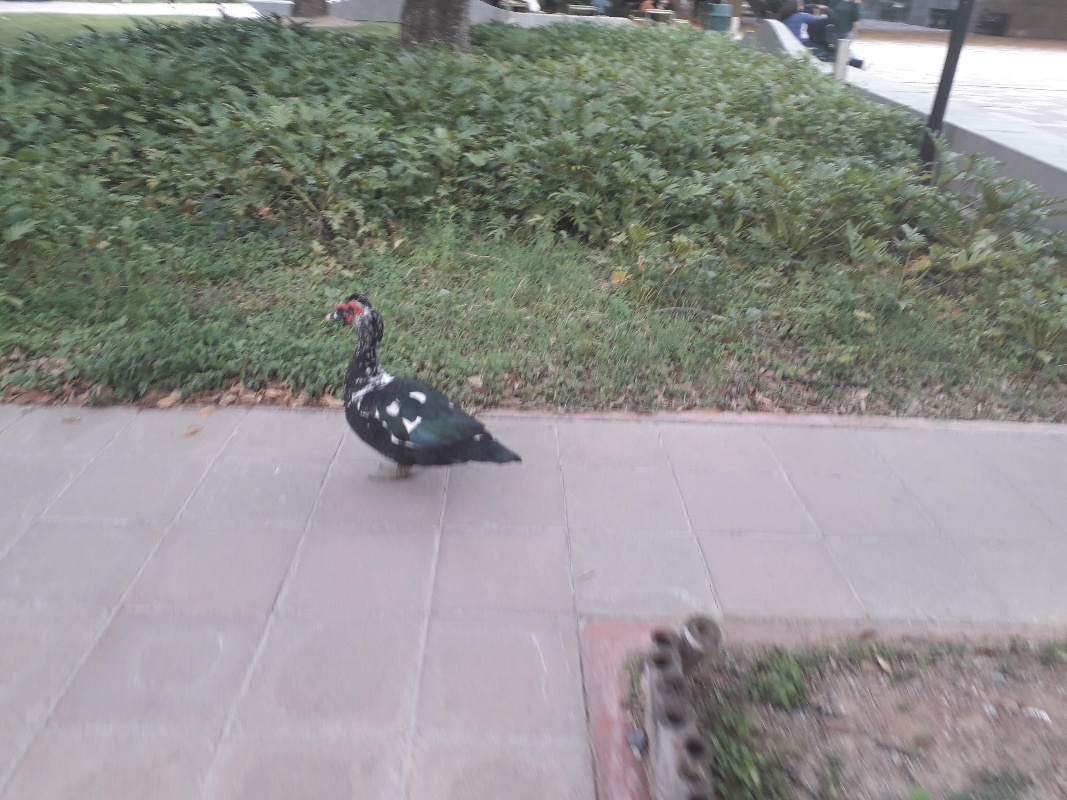pato: (330, 285, 502, 481)
